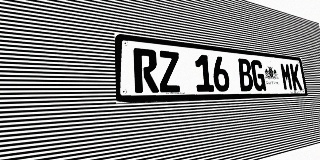1: (194, 54, 214, 92)
6: (211, 56, 230, 92)
B: (237, 58, 254, 91)
G: (250, 59, 266, 91)
K: (289, 63, 303, 90)
M: (280, 62, 293, 91)
R: (133, 48, 159, 93)
Z: (158, 50, 181, 92)
